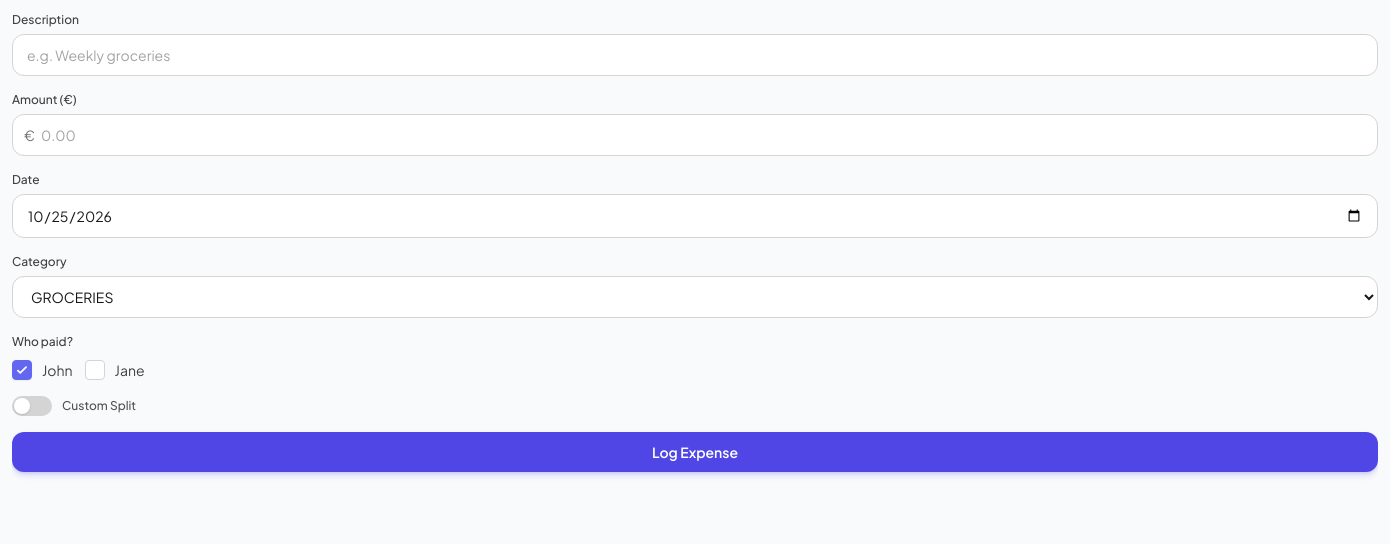
Test: ExpenseForm.svelte — Expense Creation Form › validates invalid/zero expense amount (Supermarket)
Type "Supermarket" into the field with placeholder "e.g. Weekly groceries" at (695, 55), box [12,34,1378,76]
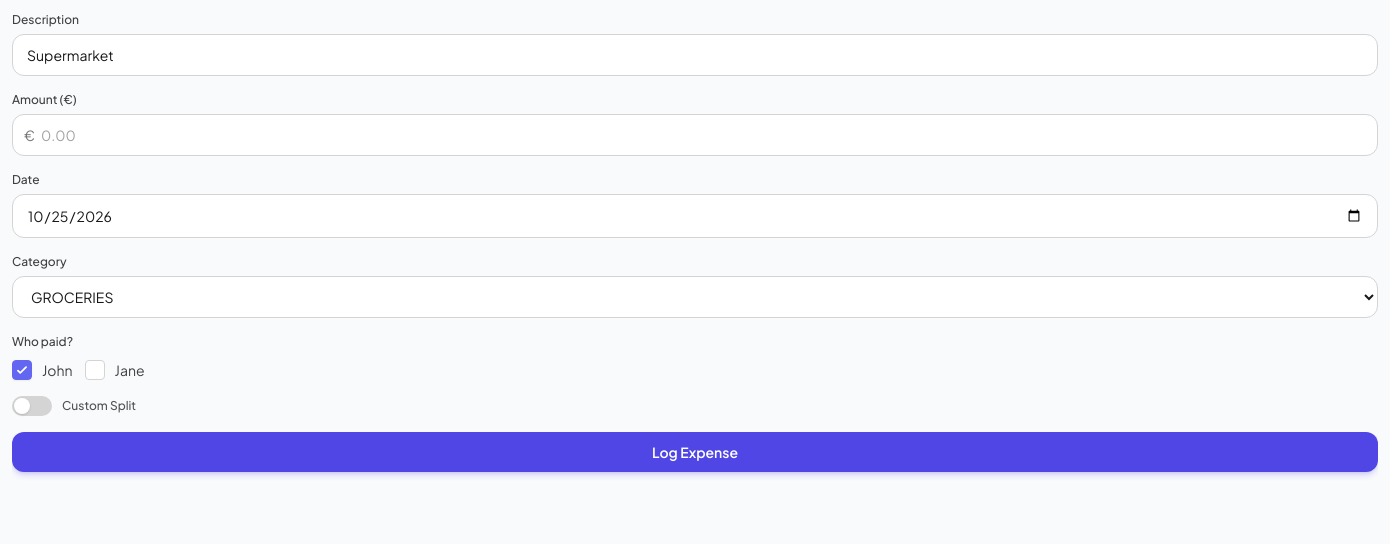
Click the button "Log Expense" at (695, 452), box [12,432,1378,472]
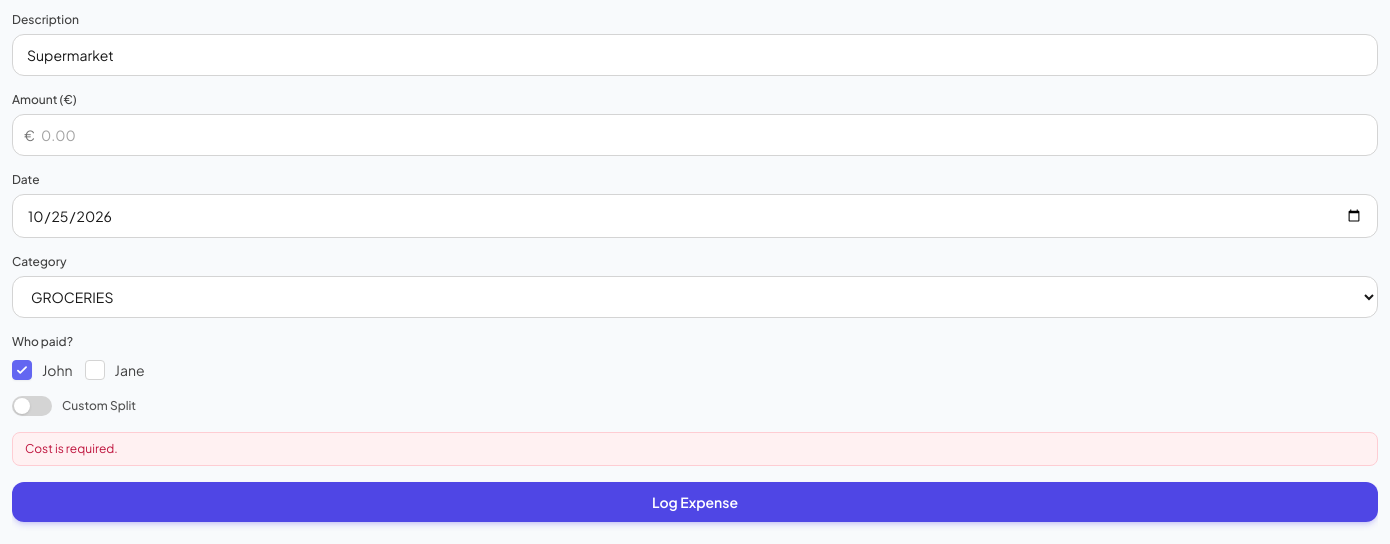
Check: the text "Cost is required." is shown, box [12,432,1378,466]
